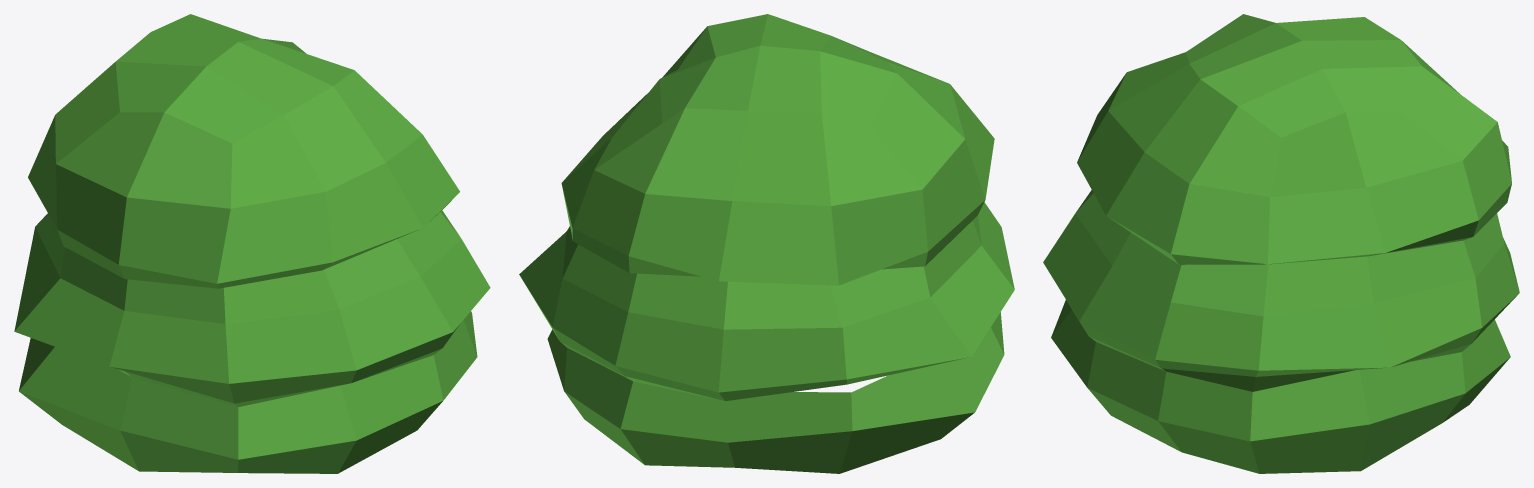
The model's file is bush-round.glb.
The picture shows the model from 3 angles, left to right: view 1: azimuth 30°, elevation 25°; view 2: azimuth 150°, elevation 25°; view 3: azimuth 270°, elevation 25°; orthographic projection. The views are drawn at different scales.
Visible parts, largest first — view 1: Bush_2; view 2: Bush_2; view 3: Bush_2.
Boxes of the visible parts, x1=… form: Bush_2: x1=14, y1=14, x2=490, y2=473; Bush_2: x1=519, y1=14, x2=1014, y2=473; Bush_2: x1=1043, y1=14, x2=1519, y2=473.
Size of the model in its own units: 1.88 by 1.55 by 1.86.
